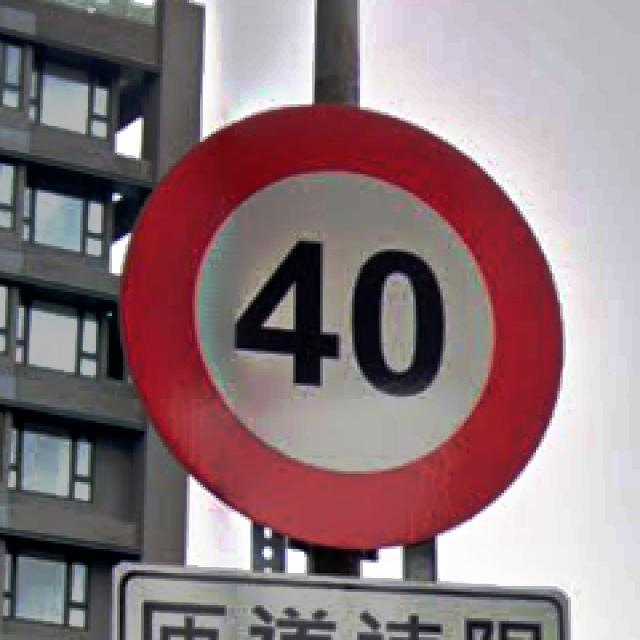max40: (115, 96, 565, 549)
